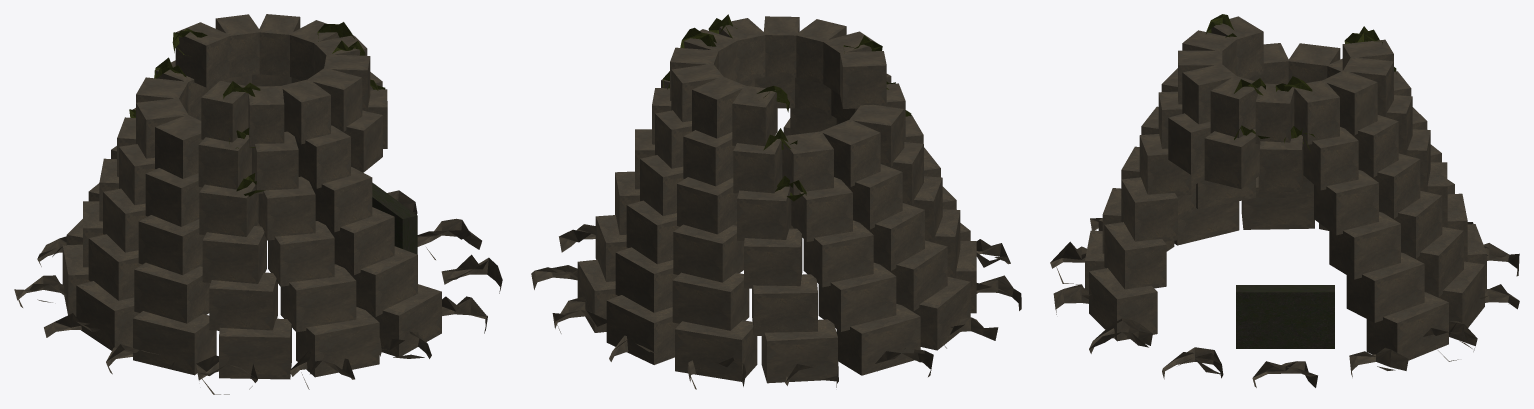
Rendered from cold_charcoal_kiln.glb.
3 renders of one model, left to right at view 1: azimuth 30°, elevation 25°; view 2: azimuth 150°, elevation 25°; view 3: azimuth 270°, elevation 25°, orthographic.
Visible parts, largest first — view 1: broken_fieldstone, lichened_edges, char_and_rubber; view 2: broken_fieldstone, lichened_edges; view 3: broken_fieldstone, char_and_rubber, lichened_edges.
Boxes of the visible parts, x1,y1,x2,y2 form: broken_fieldstone: [14, 14, 502, 394]; lichened_edges: [129, 22, 385, 196]; char_and_rubber: [372, 182, 417, 254]; broken_fieldstone: [531, 16, 1021, 389]; lichened_edges: [663, 14, 911, 201]; broken_fieldstone: [1050, 16, 1519, 387]; char_and_rubber: [1236, 285, 1334, 348]; lichened_edges: [1206, 14, 1396, 151].
Bounding box in the file's own units: 4.22 × 2.39 × 4.05.
3 materials, 3 textured.
